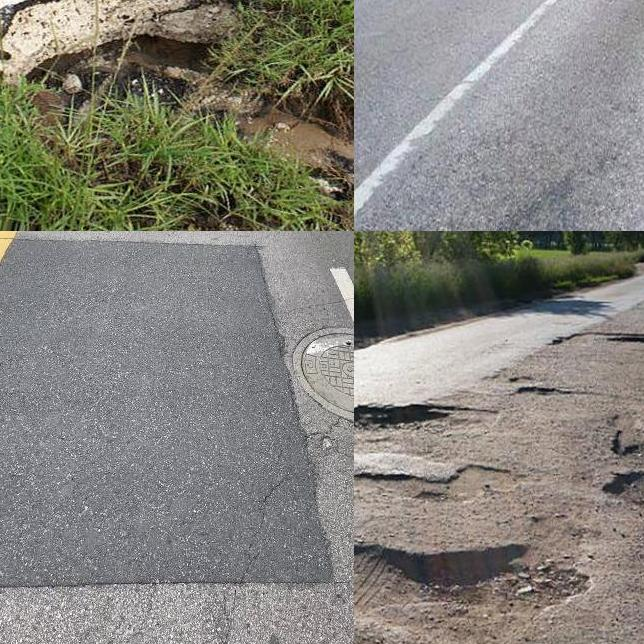Lubang: (354, 535, 607, 638), (354, 401, 461, 440)
Pinggir: (0, 0, 354, 165)
Sambungan: (0, 237, 333, 586)
